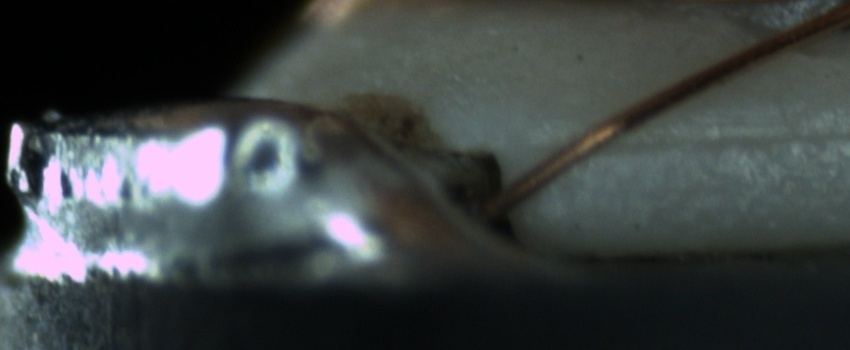DL: (576, 102, 842, 175)
